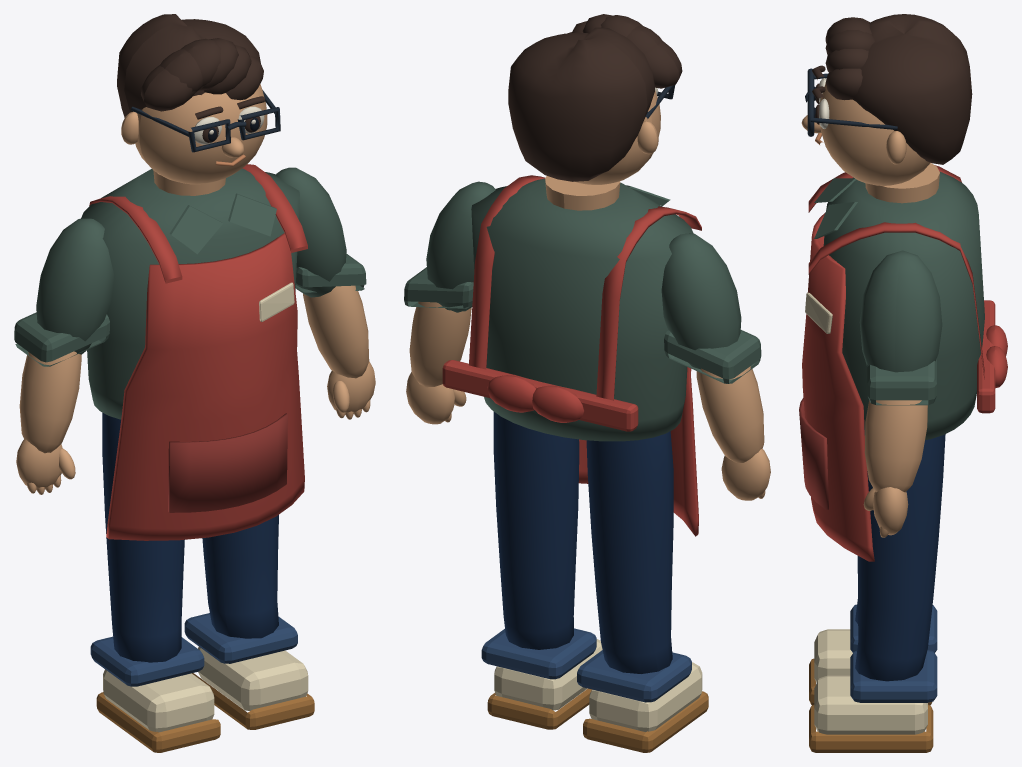
The model's file is clerk-c02-r1.glb.
3 views of the same model, side by side, from view 1: azimuth 30°, elevation 25°; view 2: azimuth 150°, elevation 25°; view 3: azimuth 270°, elevation 25° (orthographic).
Parts seen in each view (by area): view 1: clerk_Palette, Leg_L.001_Palette, Leg_R.001_Palette, Arm_L.001_Palette, Arm_R.001_Palette; view 2: clerk_Palette, Leg_L.001_Palette, Leg_R.001_Palette, Arm_L.001_Palette, Arm_R.001_Palette; view 3: clerk_Palette, Leg_R.001_Palette, Arm_R.001_Palette, Leg_L.001_Palette.
Boxes of the visible parts, <box> form: clerk_Palette: <box>81,14,307,540</box>; Leg_L.001_Palette: <box>90,412,220,752</box>; Leg_R.001_Palette: <box>184,515,314,729</box>; Arm_L.001_Palette: <box>14,218,113,494</box>; Arm_R.001_Palette: <box>275,167,375,419</box>; clerk_Palette: <box>442,14,701,536</box>; Leg_L.001_Palette: <box>577,431,708,752</box>; Leg_R.001_Palette: <box>481,411,602,729</box>; Arm_L.001_Palette: <box>661,233,770,500</box>; Arm_R.001_Palette: <box>404,181,495,424</box>; clerk_Palette: <box>799,14,1007,561</box>; Leg_R.001_Palette: <box>809,434,945,752</box>; Arm_R.001_Palette: <box>859,250,942,537</box>; Leg_L.001_Palette: <box>809,599,937,705</box>.
Size of the model in its own units: 1.01 by 1.84 by 0.5046.
